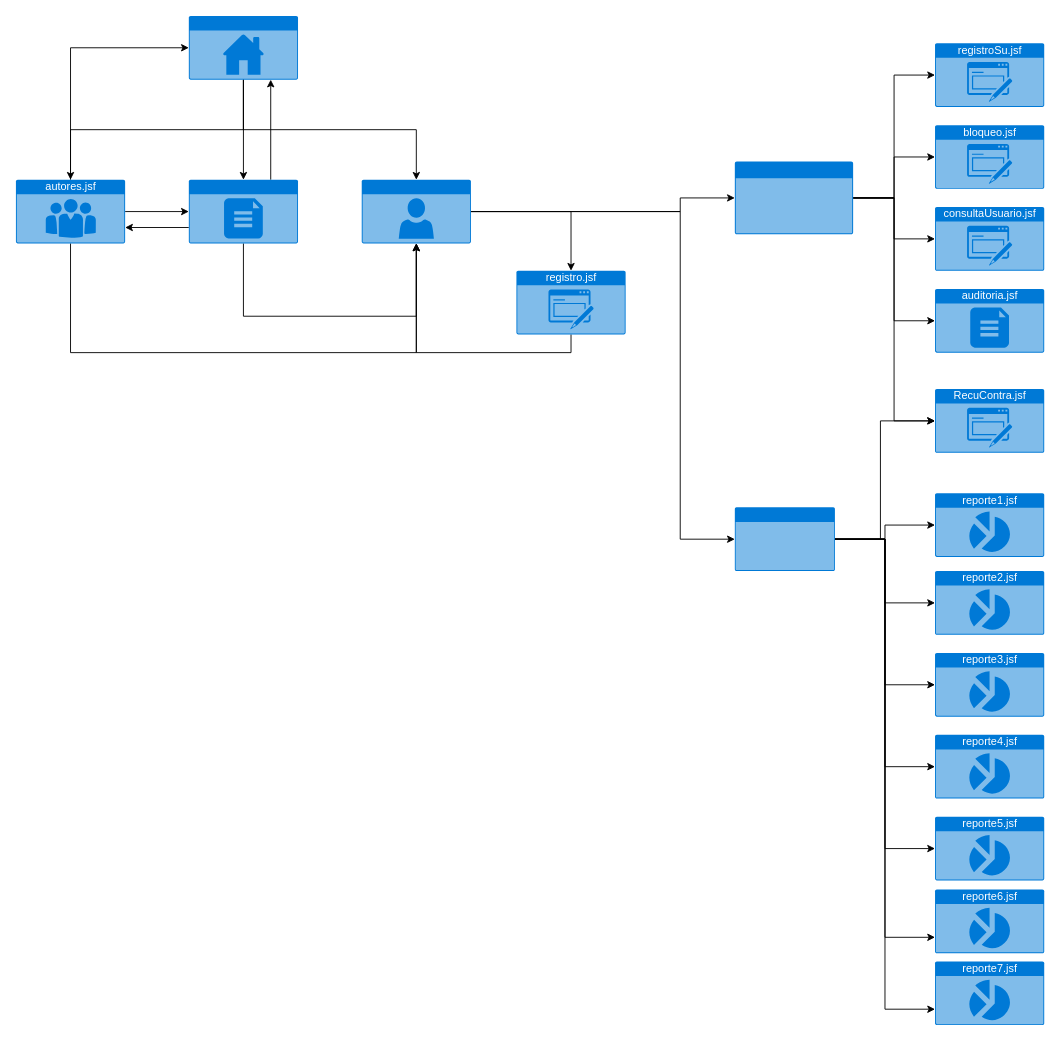
Image size: 1059x1040. Some labels were removed from this diagram. Each missing label, with the centre of its shape:
index.jsf: pixel 243 47
login.jsf: pixel 415 211
menuAdm.jsf: pixel 793 197
menuOpe.jsf: pixel 784 539
reporte.jsf: pixel 243 211
